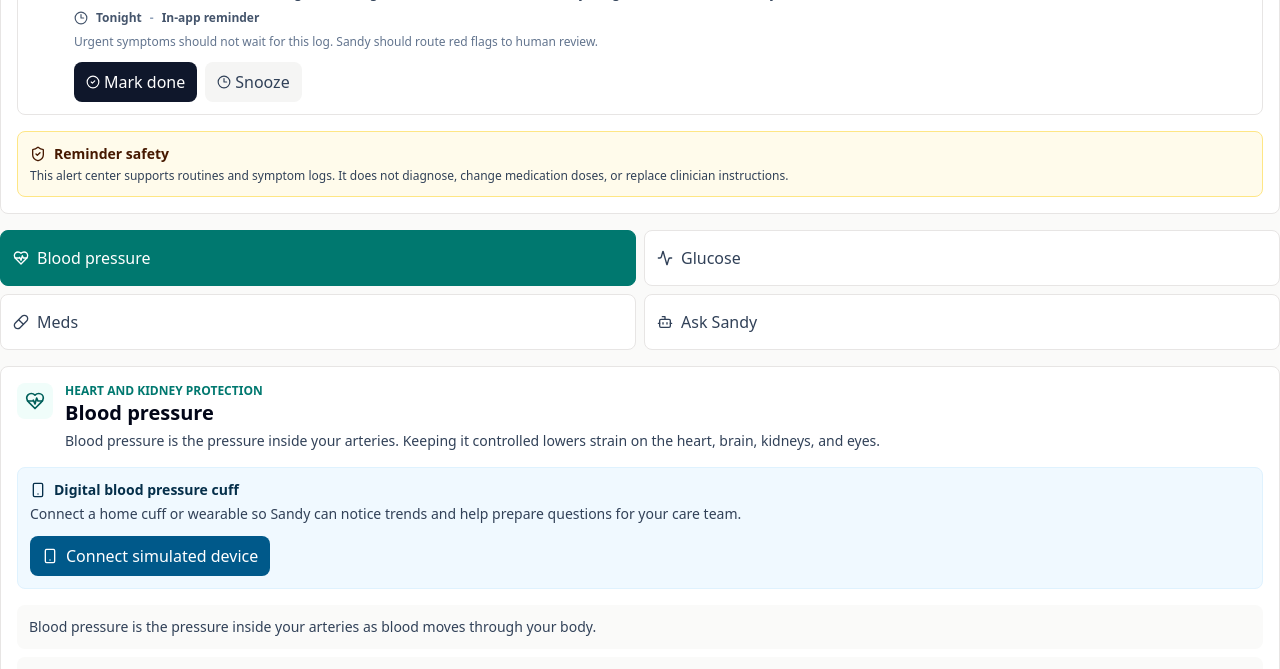
Test: HealthCompanionScreen › frames Sandy as grounded in the patient knowledge bundle
(page scrolled)
Step 1. Click the button "Ask Sandy" → click(719, 322), box [644, 294, 1279, 350]
(page scrolled)
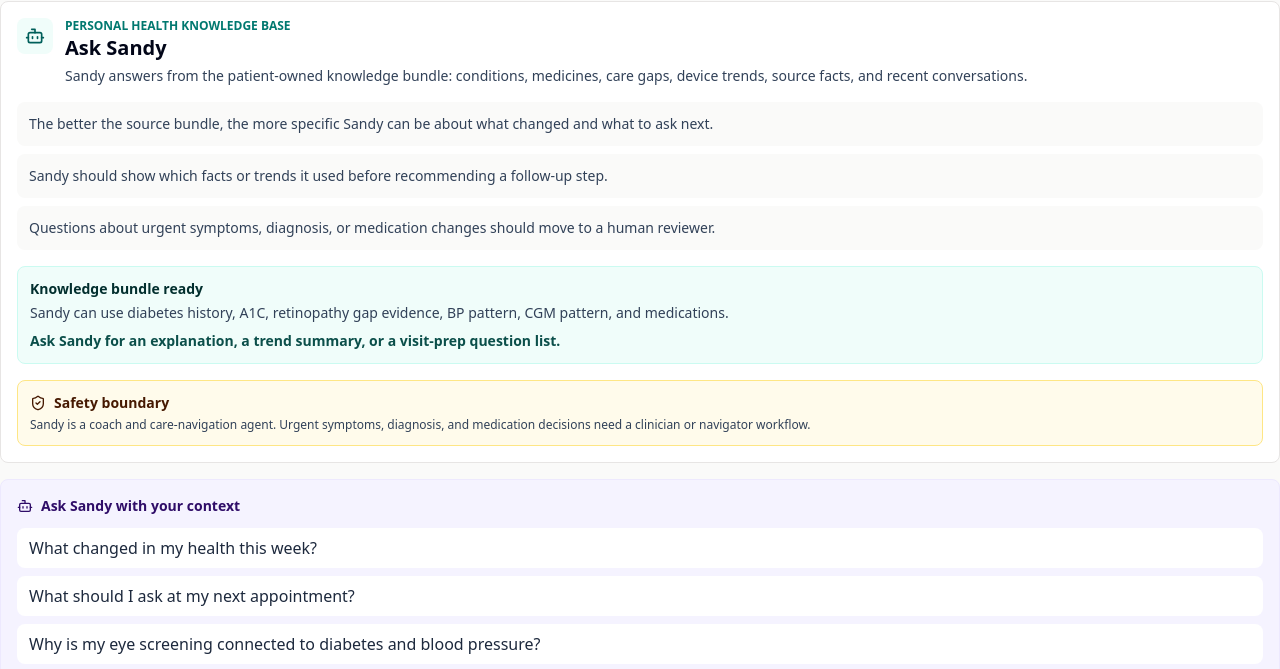
Expected: the text "Personal health knowledge base" is shown, [65, 16, 291, 34]
Expected: the text "diabetes history, A1C, retinopathy gap evidence" is shown, [30, 302, 729, 322]
Expected: the button "What should I ask at my next appointment?" is shown, [17, 576, 1263, 616]
